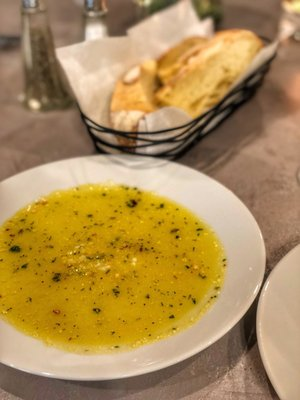sushi: (0, 157, 267, 392), (54, 22, 275, 158), (256, 242, 300, 400)
